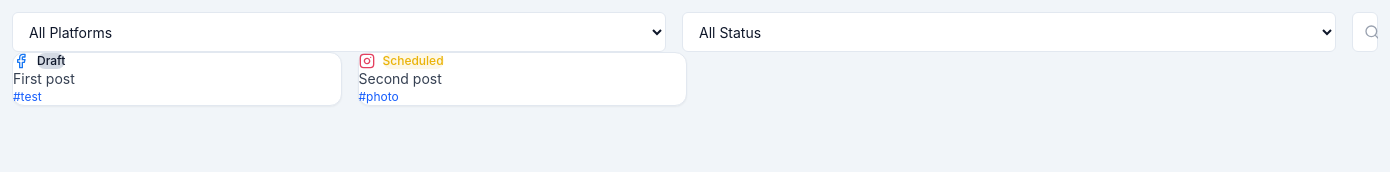
Test: PostList › filters by platform
The image size is (1390, 172).
Select "Instagram" in the dropdown named "Filter by platform": (339, 32) [12,12,666,52]
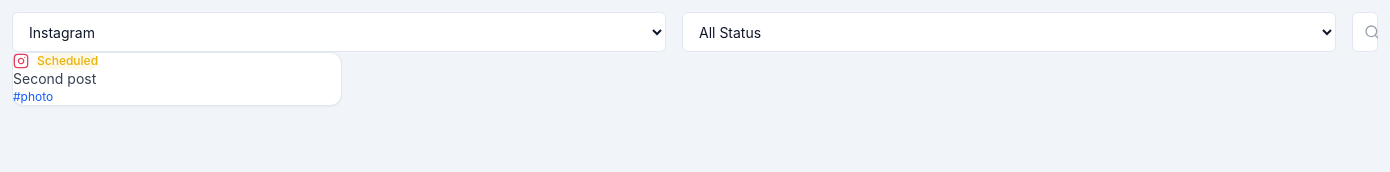
Check: the text "Second post" is shown, box [13,70,96,87]
Check: the text "First post" is gone
